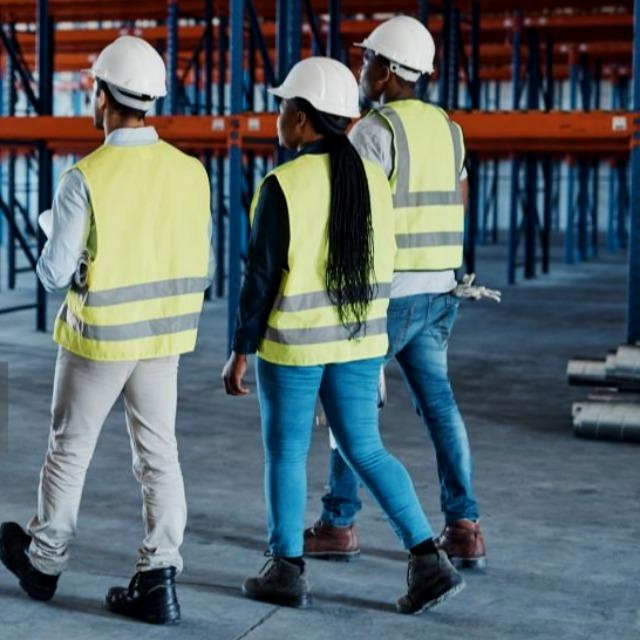Con_Casco: (266, 57, 362, 148), (86, 35, 167, 129), (356, 14, 434, 94)
Con_Chaleco: (52, 140, 208, 359), (247, 158, 394, 370), (364, 102, 468, 273)
